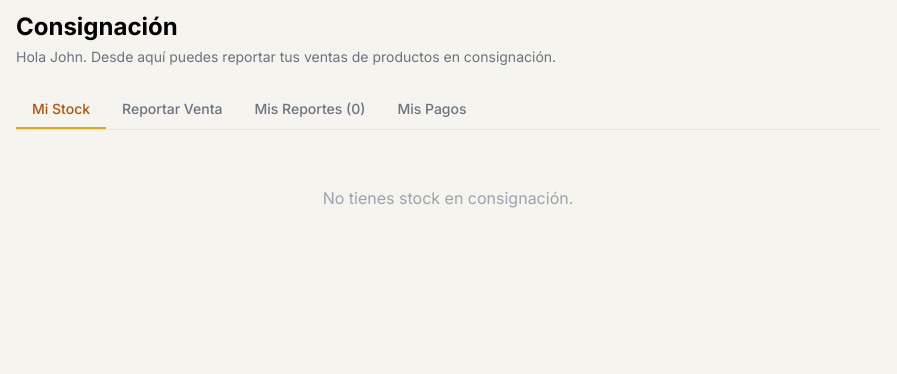
Test case: MySalesPage › switches between tabs
What coordinates should you click on to do the following:
click the button "Reportar Venta"
I would click on:
 (172, 110)
Its box is [106,91,238,129].
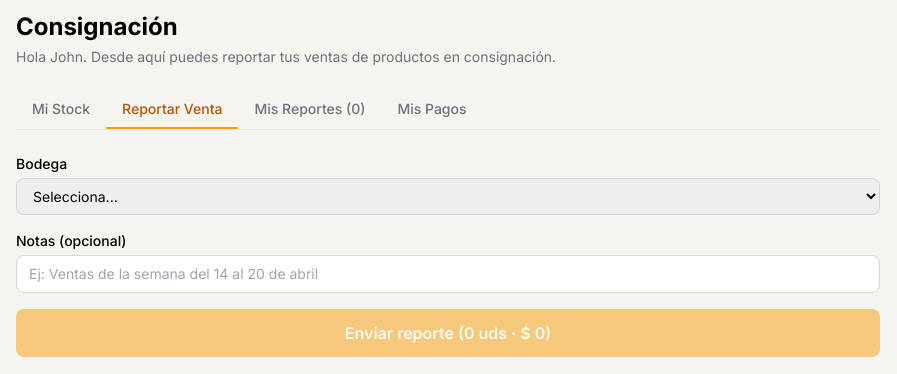
Expected: the text "Bodega" is shown, [16,155,67,172]
What coordinates should you click on to do the following:
click the button "Mis Reportes (0)"
I would click on:
 (310, 110)
Its box is [238,91,381,129].
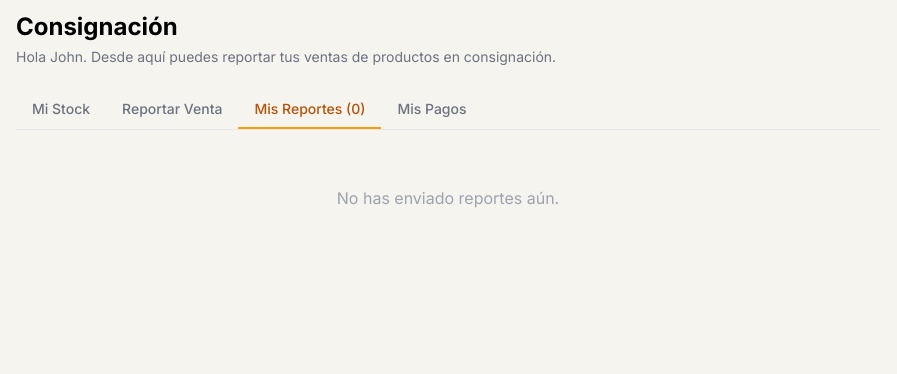
Expected: the text "No has enviado reportes aún." is shown, [337,188,559,208]
